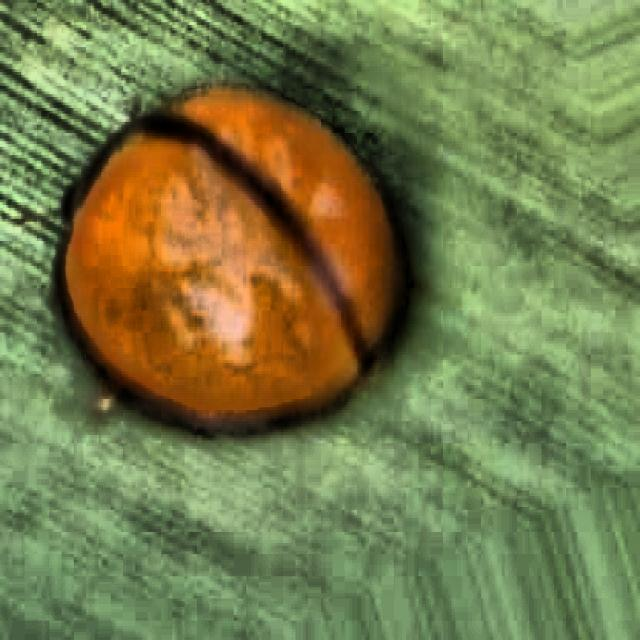Ladybug: (20, 11, 469, 504)
